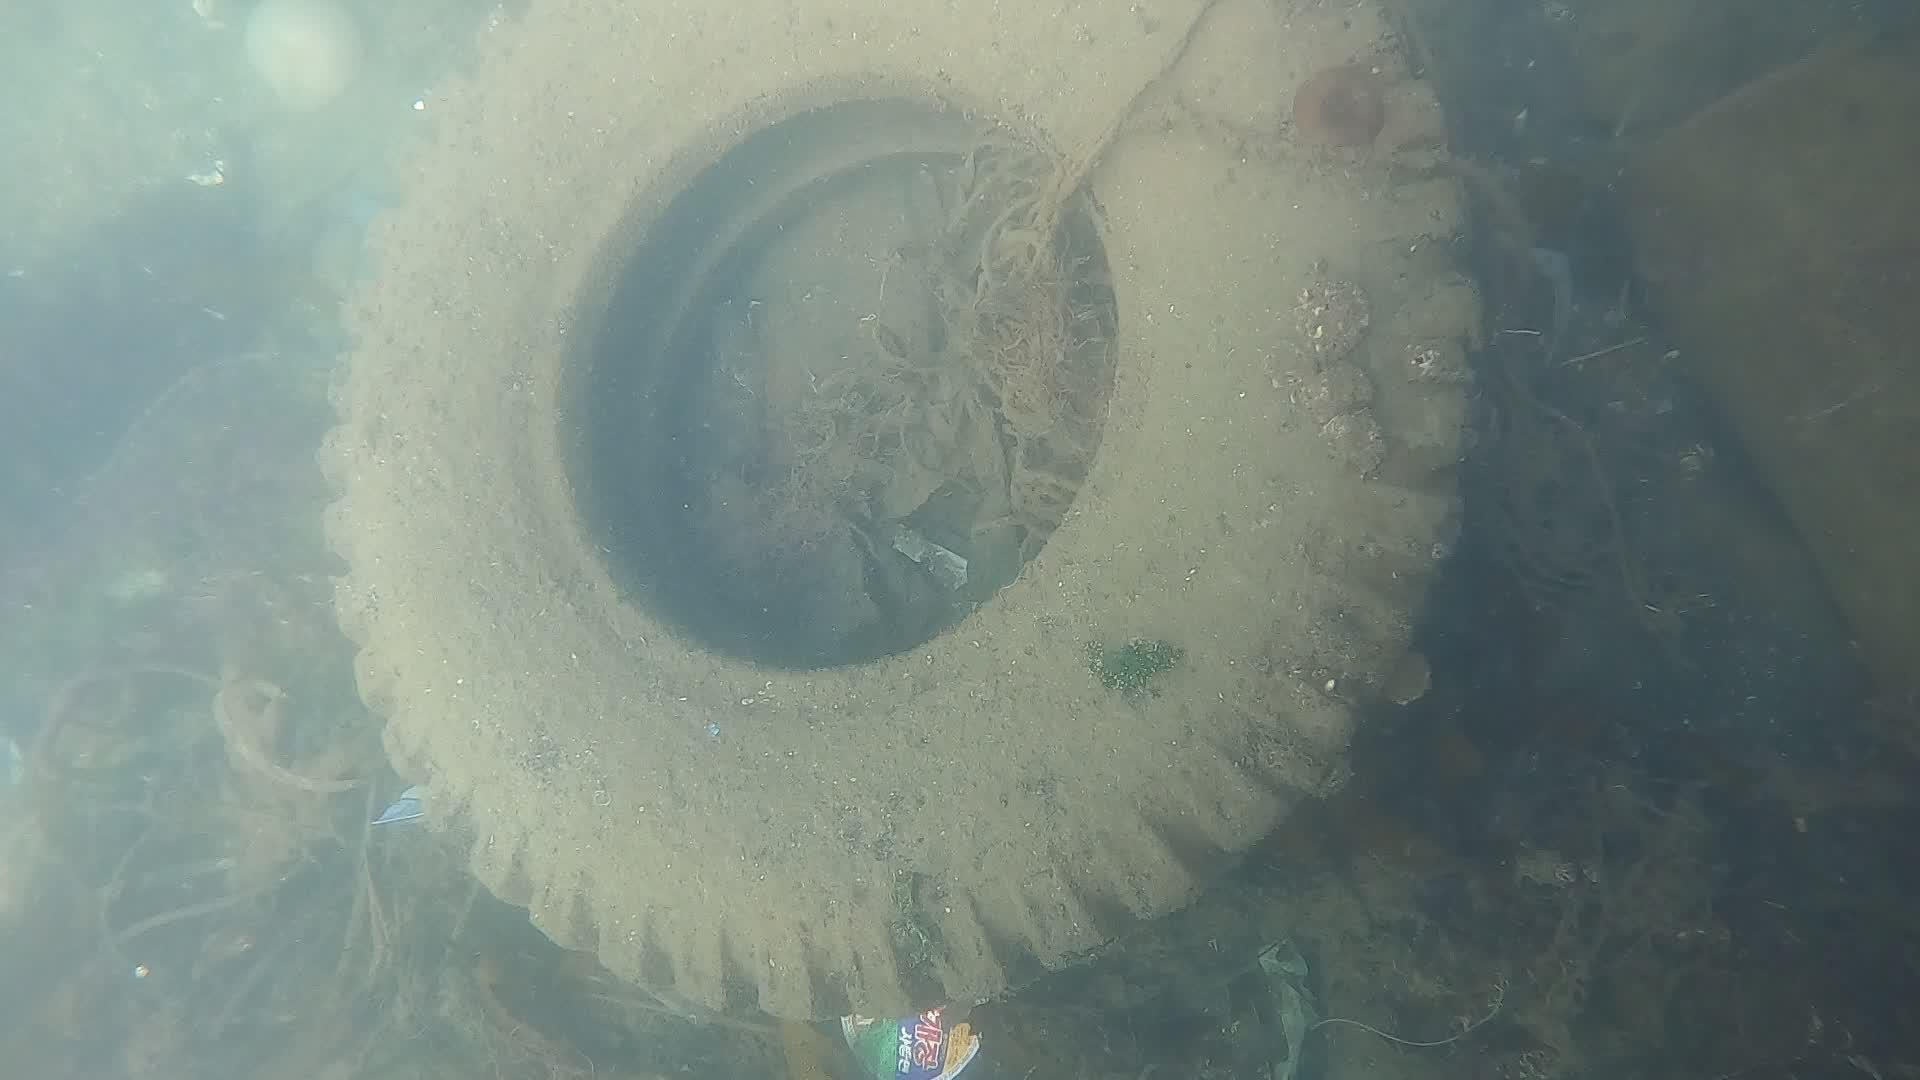tire: (318, 3, 1474, 1015)
